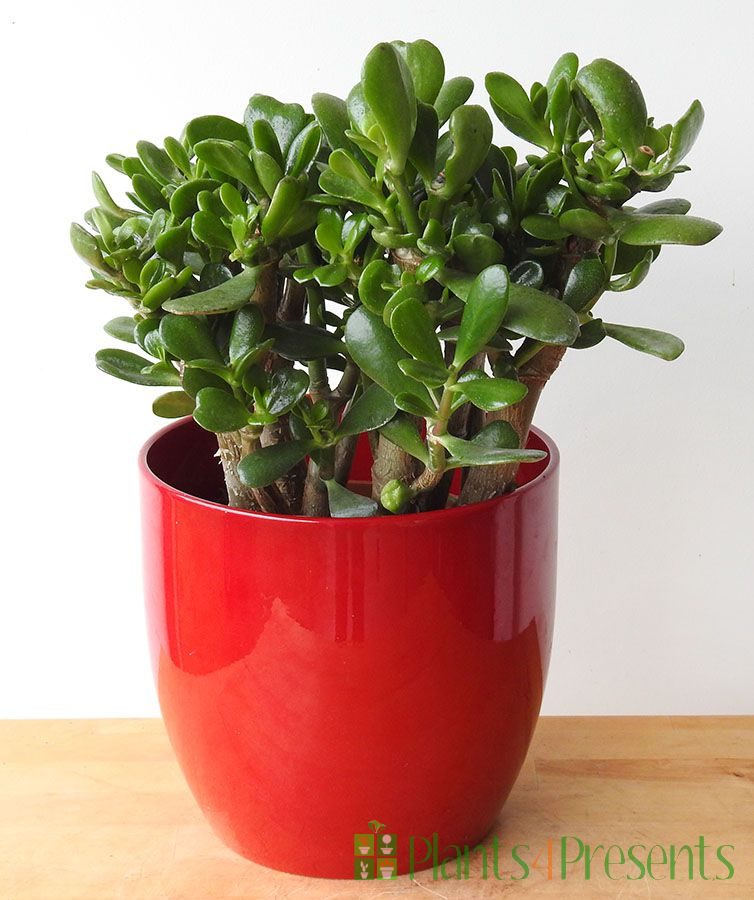plant: (58, 29, 732, 780)
